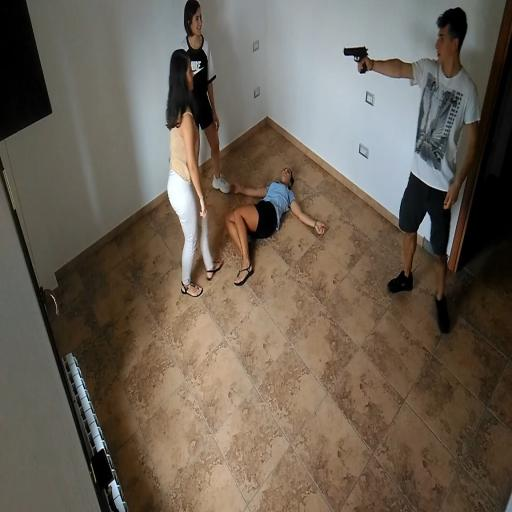violencia: (335, 0, 488, 340)
